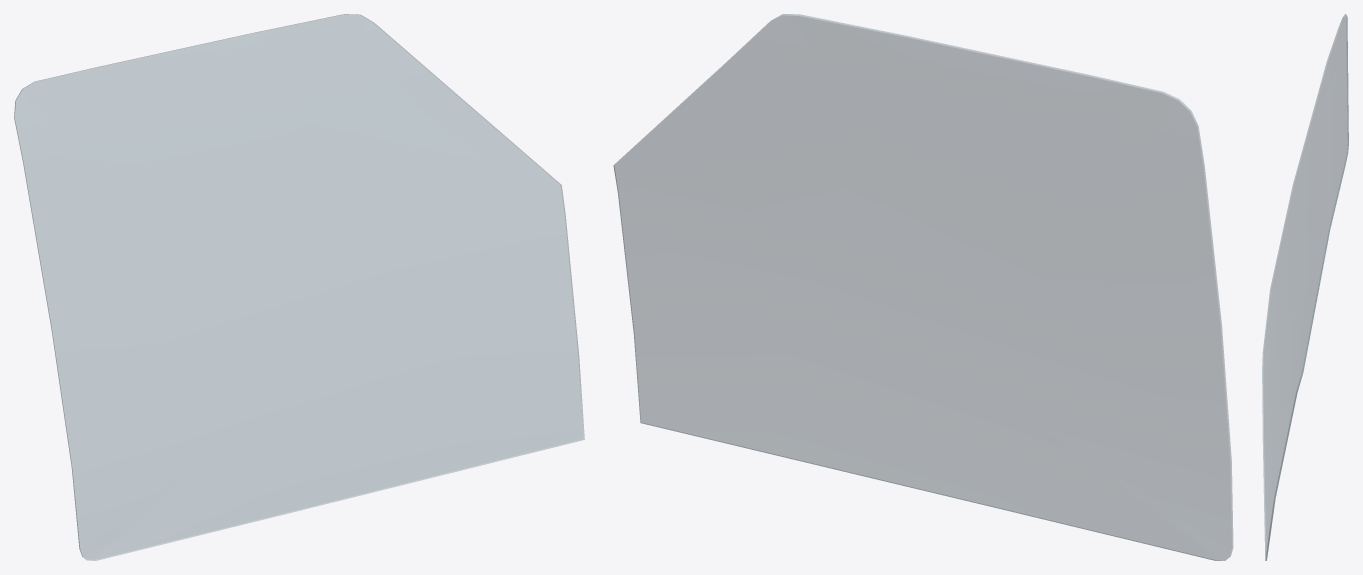
3 views of the same model, side by side, from view 1: azimuth 30°, elevation 25°; view 2: azimuth 150°, elevation 25°; view 3: azimuth 270°, elevation 25° (orthographic). The views are drawn at different scales.
Visible parts, largest first — view 1: SM_Ambulance_Door_FR_Glass_Ext2; view 2: SM_Ambulance_Door_FR_Glass_Ext2; view 3: SM_Ambulance_Door_FR_Glass_Ext2.
Part boxes in pixels (<box>): SM_Ambulance_Door_FR_Glass_Ext2: <box>14,14,584,560</box>; SM_Ambulance_Door_FR_Glass_Ext2: <box>613,14,1233,560</box>; SM_Ambulance_Door_FR_Glass_Ext2: <box>1262,14,1348,560</box>.
Bounding box in the file's own units: 0.6707 × 0.5413 × 0.1213.
